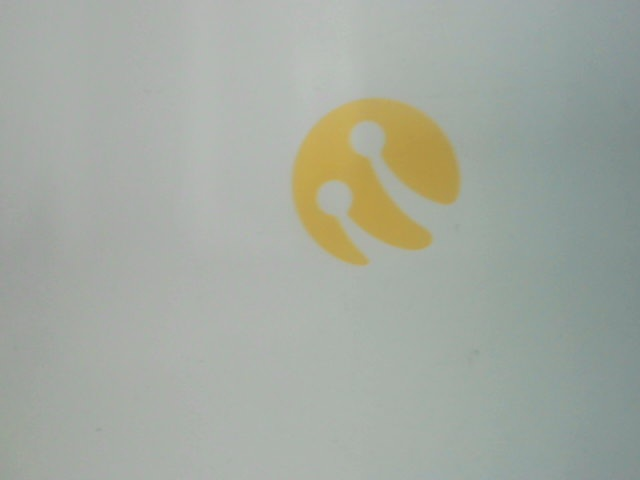AV_H3600Yellow: (281, 92, 476, 279)
